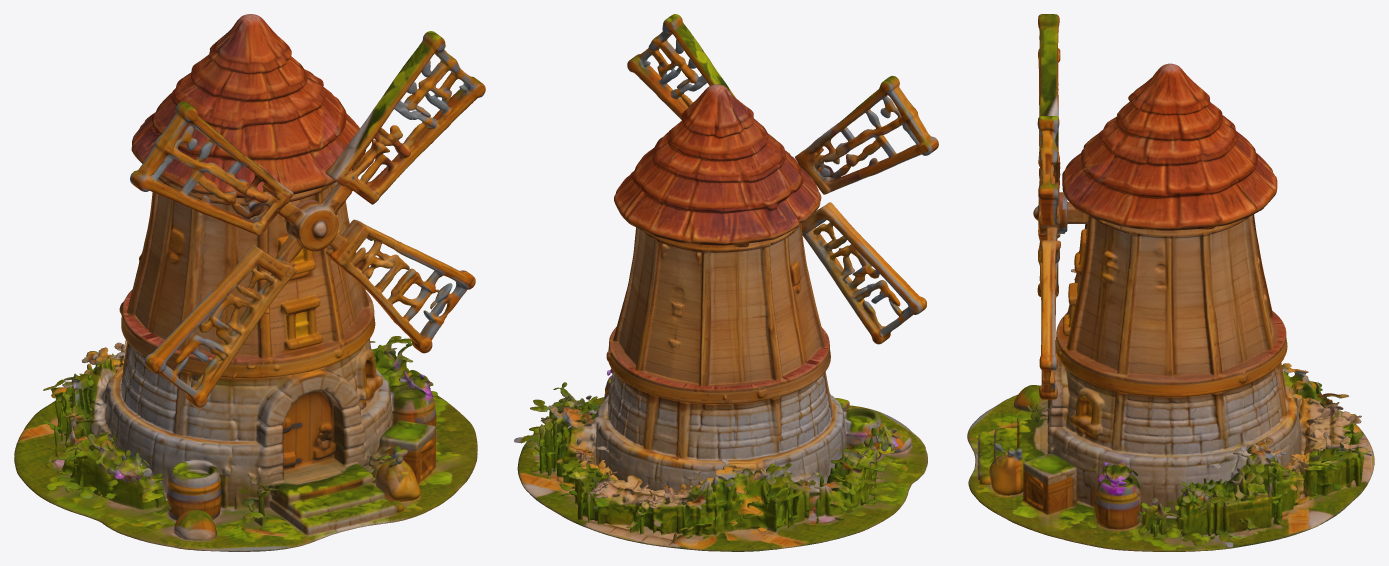
Rendered from windmill.glb.
3 views of the same model, side by side, from view 1: azimuth 30°, elevation 25°; view 2: azimuth 150°, elevation 25°; view 3: azimuth 270°, elevation 25° (orthographic). The views are drawn at different scales.
Visible parts, largest first — view 1: tripo_node_2e1fab87-6d0f-45b2-b725-3e8e726a6afb; view 2: tripo_node_2e1fab87-6d0f-45b2-b725-3e8e726a6afb; view 3: tripo_node_2e1fab87-6d0f-45b2-b725-3e8e726a6afb.
Boxes of the visible parts, bbox=[...] form: tripo_node_2e1fab87-6d0f-45b2-b725-3e8e726a6afb: bbox=[14, 14, 485, 551]; tripo_node_2e1fab87-6d0f-45b2-b725-3e8e726a6afb: bbox=[514, 14, 938, 551]; tripo_node_2e1fab87-6d0f-45b2-b725-3e8e726a6afb: bbox=[967, 14, 1374, 551].
Size of the model in its own units: 0.9649 by 1 by 0.9159.
Materials: 1 (1 with a texture image).
